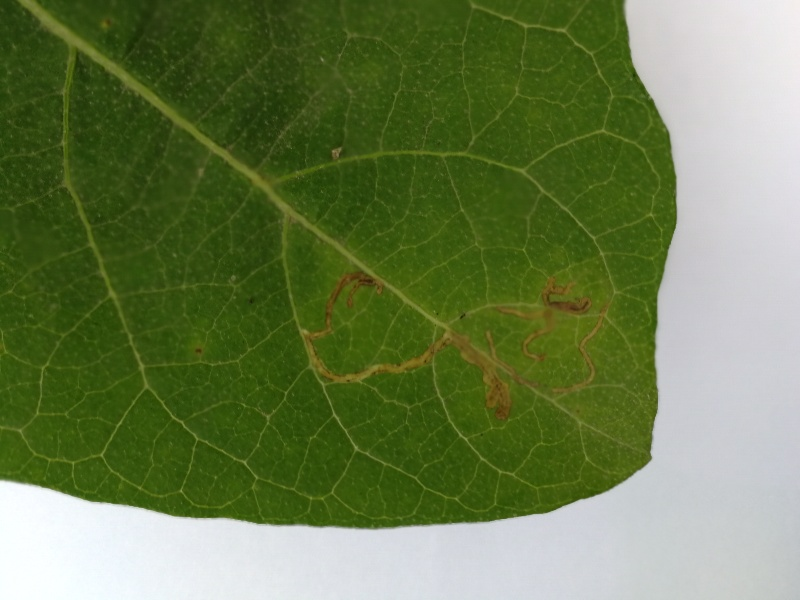leafminer: (292, 265, 617, 430)
